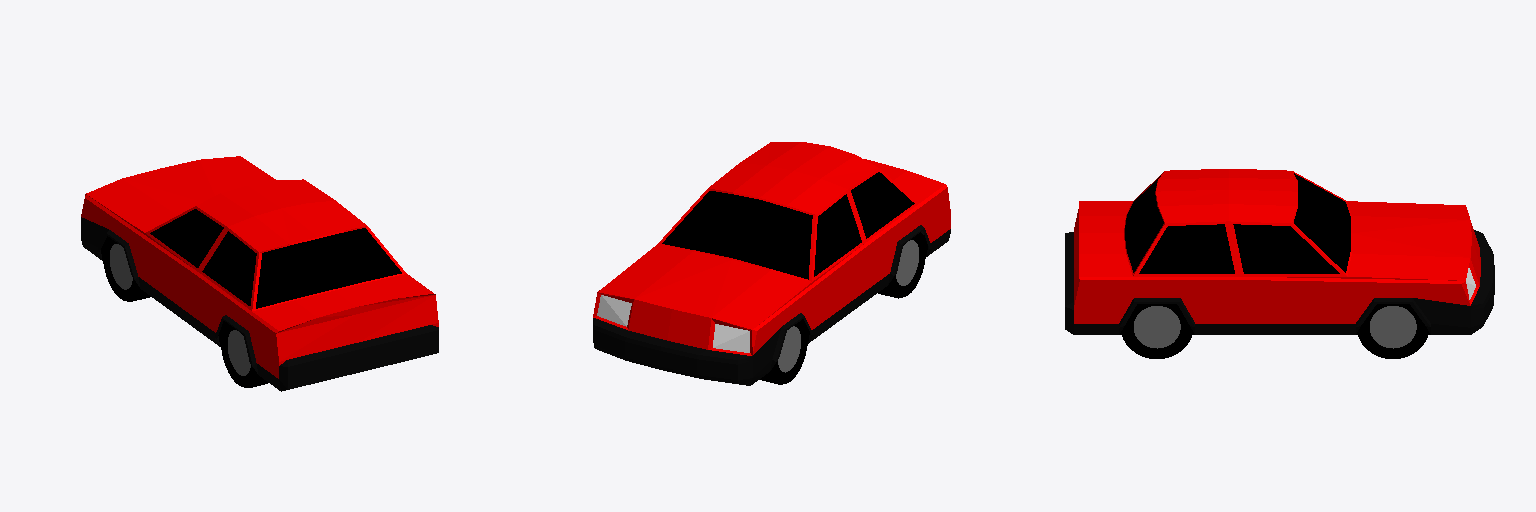
File: car.obj
3 views of the same model, side by side, from view 1: azimuth 30°, elevation 25°; view 2: azimuth 150°, elevation 25°; view 3: azimuth 270°, elevation 25° (orthographic).
Visible parts, largest first — view 1: Car_Cube.001_Body, Car_Cube.001_Window, Car_Cube.001_Bumpers, Car_Cube.001_Tires, Car_Cube.001_Wheels, Car_Cube.001_Black; view 2: Car_Cube.001_Body, Car_Cube.001_Window, Car_Cube.001_Bumpers, Car_Cube.001_Tires, Car_Cube.001_Lights, Car_Cube.001_Wheels, Car_Cube.001_Black; view 3: Car_Cube.001_Body, Car_Cube.001_Window, Car_Cube.001_Bumpers, Car_Cube.001_Wheels, Car_Cube.001_Tires.
Boxes of the visible parts, <box> form: Car_Cube.001_Body: <box>81,156,438,378</box>; Car_Cube.001_Window: <box>151,209,397,306</box>; Car_Cube.001_Bumpers: <box>81,217,438,391</box>; Car_Cube.001_Tires: <box>103,236,268,387</box>; Car_Cube.001_Wheels: <box>110,244,250,375</box>; Car_Cube.001_Black: <box>150,228,401,308</box>; Car_Cube.001_Body: <box>593,142,950,355</box>; Car_Cube.001_Window: <box>666,172,914,276</box>; Car_Cube.001_Bumpers: <box>593,225,950,385</box>; Car_Cube.001_Tires: <box>760,232,925,384</box>; Car_Cube.001_Lights: <box>597,295,749,352</box>; Car_Cube.001_Wheels: <box>778,240,918,372</box>; Car_Cube.001_Black: <box>662,191,913,279</box>; Car_Cube.001_Body: <box>1074,169,1480,323</box>; Car_Cube.001_Window: <box>1125,175,1348,273</box>; Car_Cube.001_Bumpers: <box>1065,230,1494,334</box>; Car_Cube.001_Wheels: <box>1134,306,1416,348</box>; Car_Cube.001_Tires: <box>1121,304,1428,358</box>.
Size of the model in its own units: 1.57 by 1.19 by 3.48.